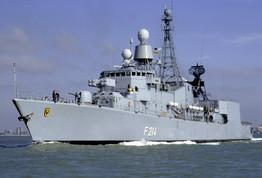warship: (11, 8, 254, 143)
